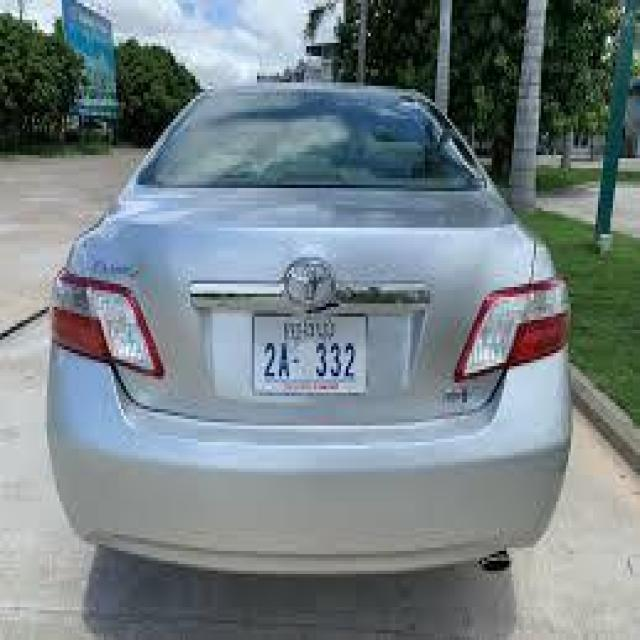Tboung_Khmum: (282, 320, 336, 345)
